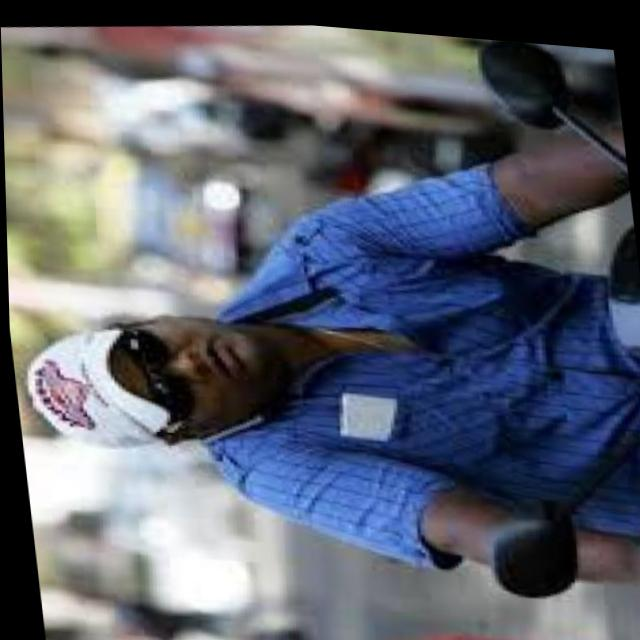USING_MOBILE: (11, 287, 282, 480)
